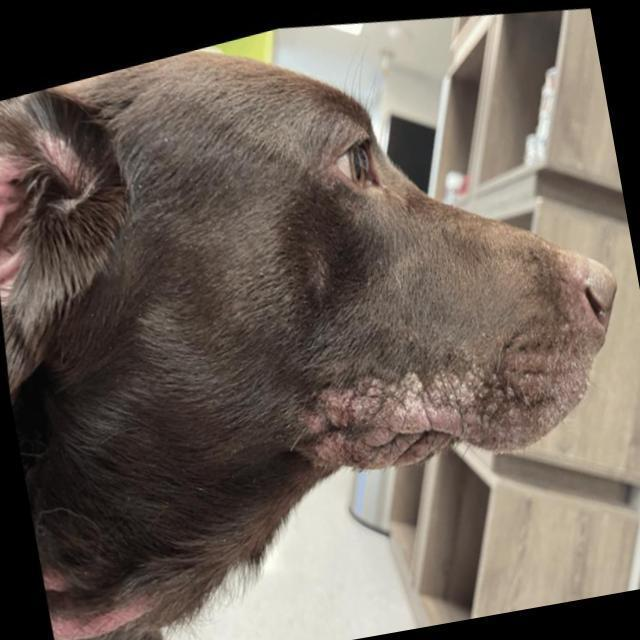mange: (294, 351, 598, 472)
